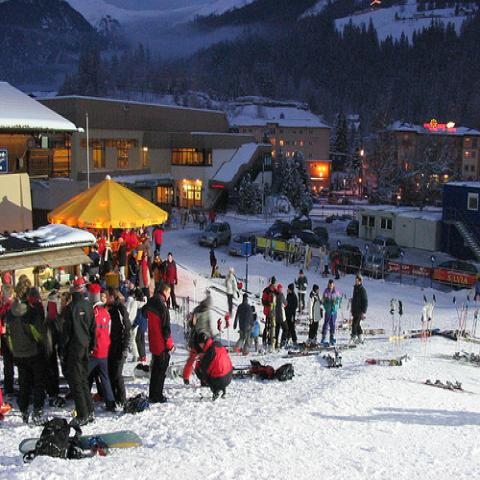car: (333, 243, 365, 276), (199, 220, 233, 250), (371, 234, 402, 259), (229, 230, 257, 257), (297, 228, 326, 249), (363, 253, 385, 280), (438, 260, 480, 272), (346, 220, 359, 238)
